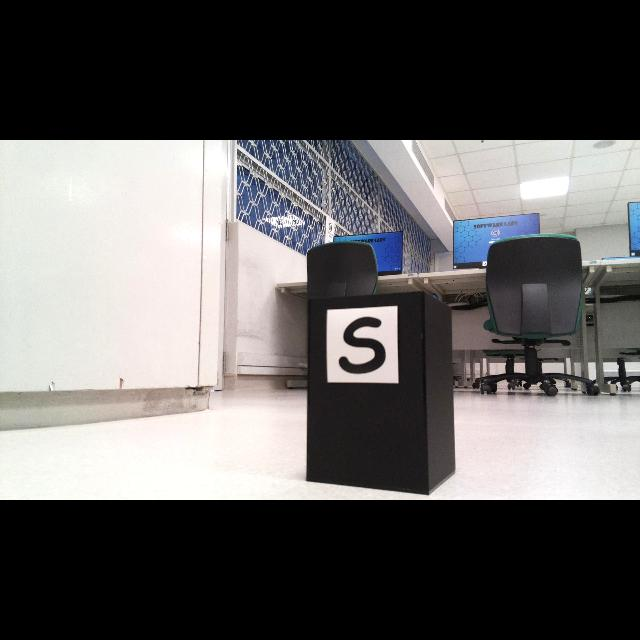S: (339, 317, 386, 373)
